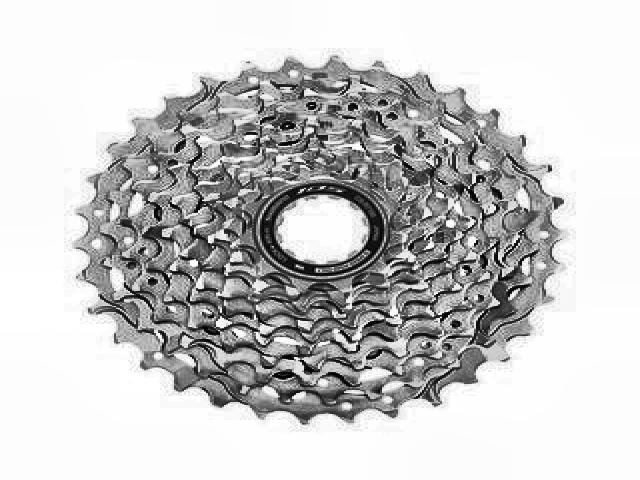cassette: (68, 54, 571, 428)
